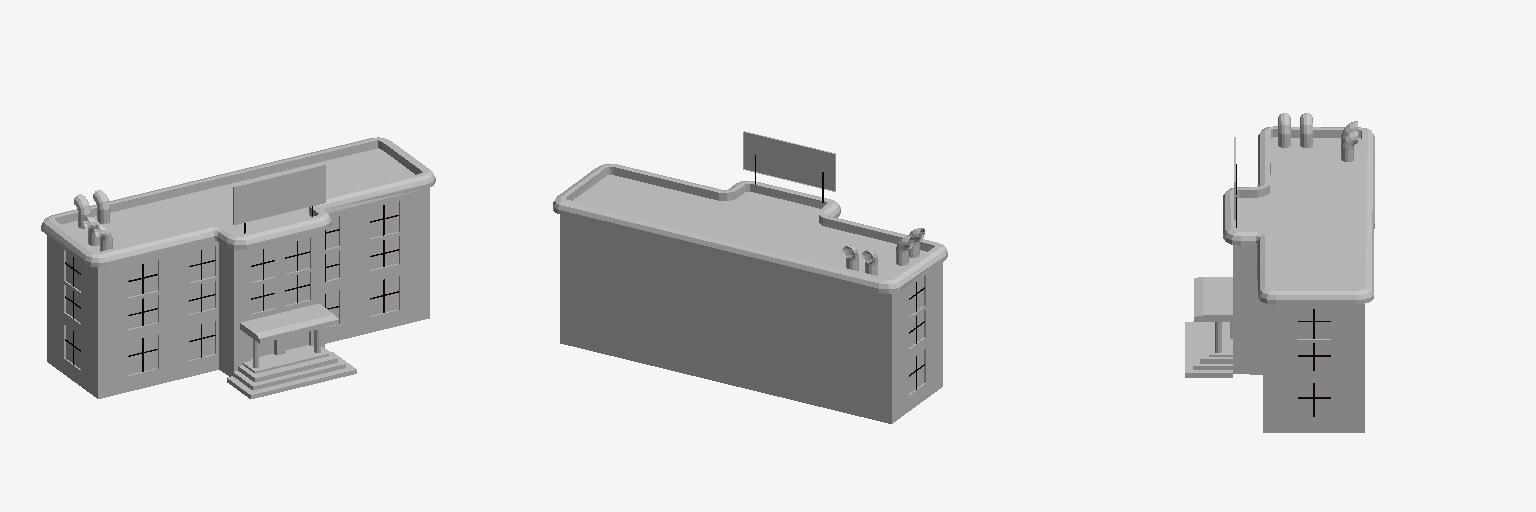
The model's file is School.obj.
3 views of the same model, side by side, from view 1: azimuth 30°, elevation 25°; view 2: azimuth 150°, elevation 25°; view 3: azimuth 270°, elevation 25° (orthographic).
Visible parts, largest first — view 1: School; view 2: School; view 3: School.
Boxes of the visible parts, box(x1,y1,x2,y2) form: School: box(41, 137, 435, 398); School: box(553, 131, 947, 423); School: box(1185, 126, 1374, 432).
Bounding box in the file's own units: 43.84 × 23.13 × 20.71.